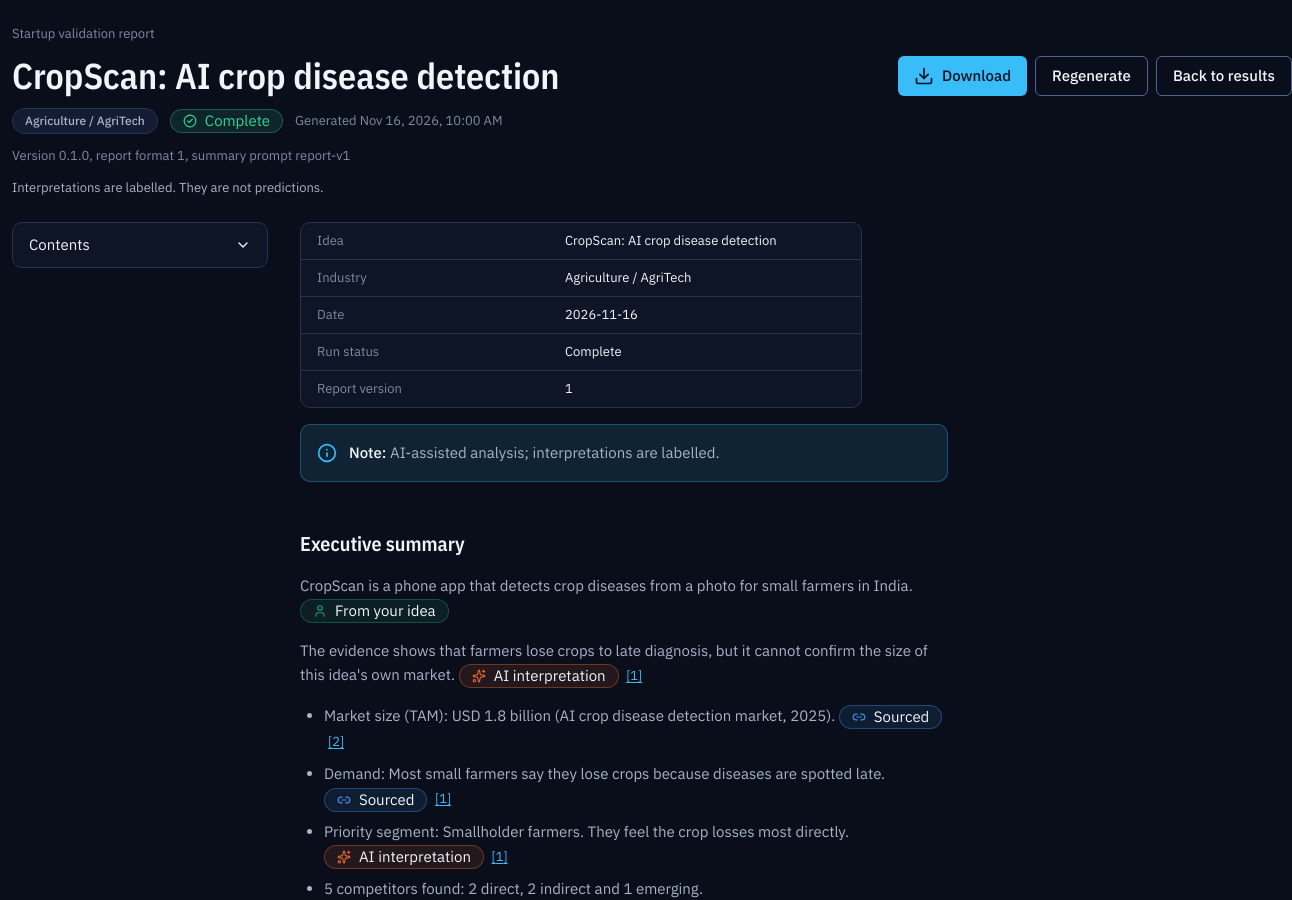
Scenario: Report page: reading › turns the contents into one collapsible list below 1024 px
Click the button "Contents".
click(140, 245)  # box x1=13 y1=223 x2=267 y2=267
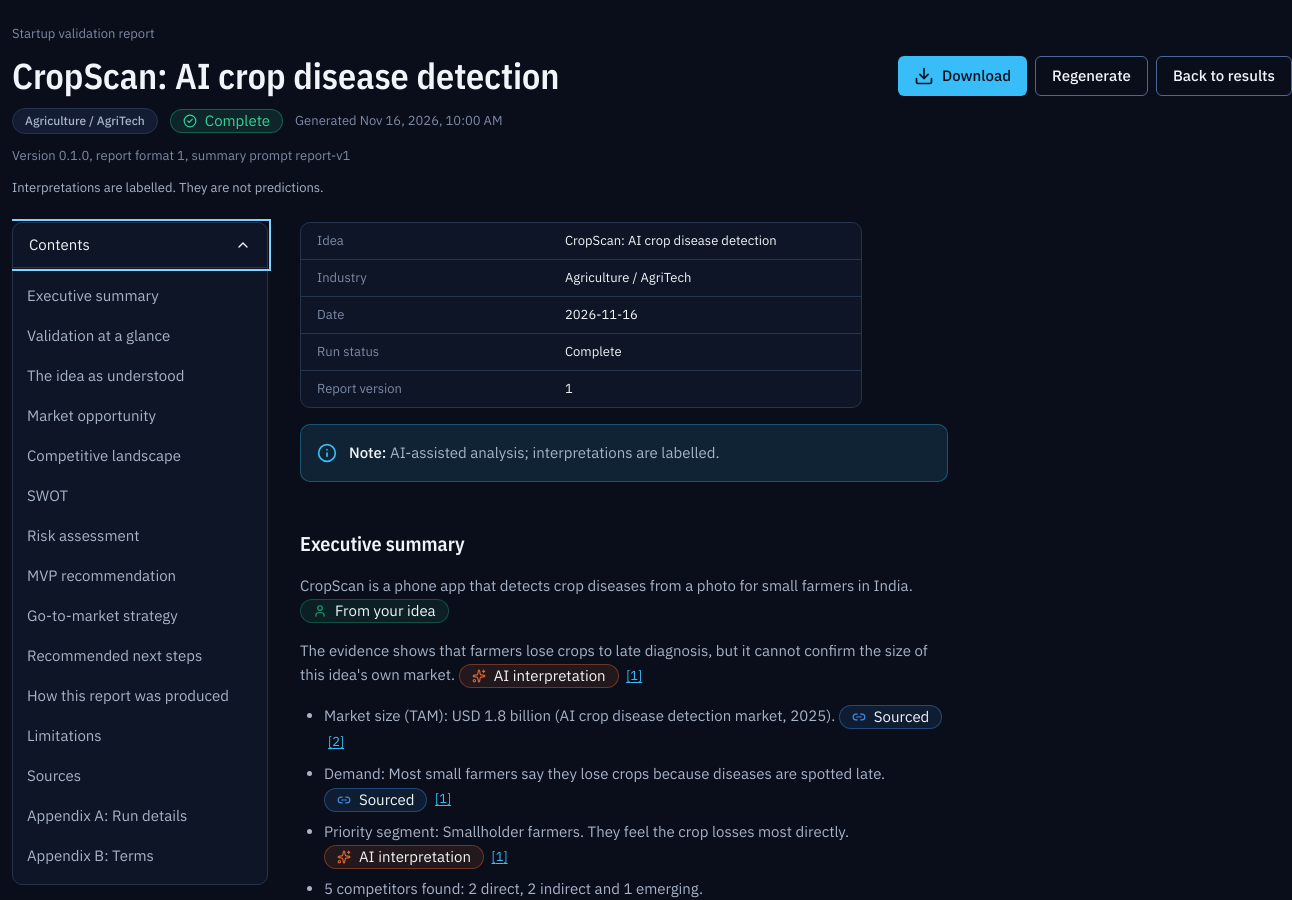
Check: the button "Contents" is expanded, box x1=13 y1=223 x2=267 y2=267
Click the link "Sources".
click(54, 776)  # box x1=27 y1=766 x2=81 y2=785
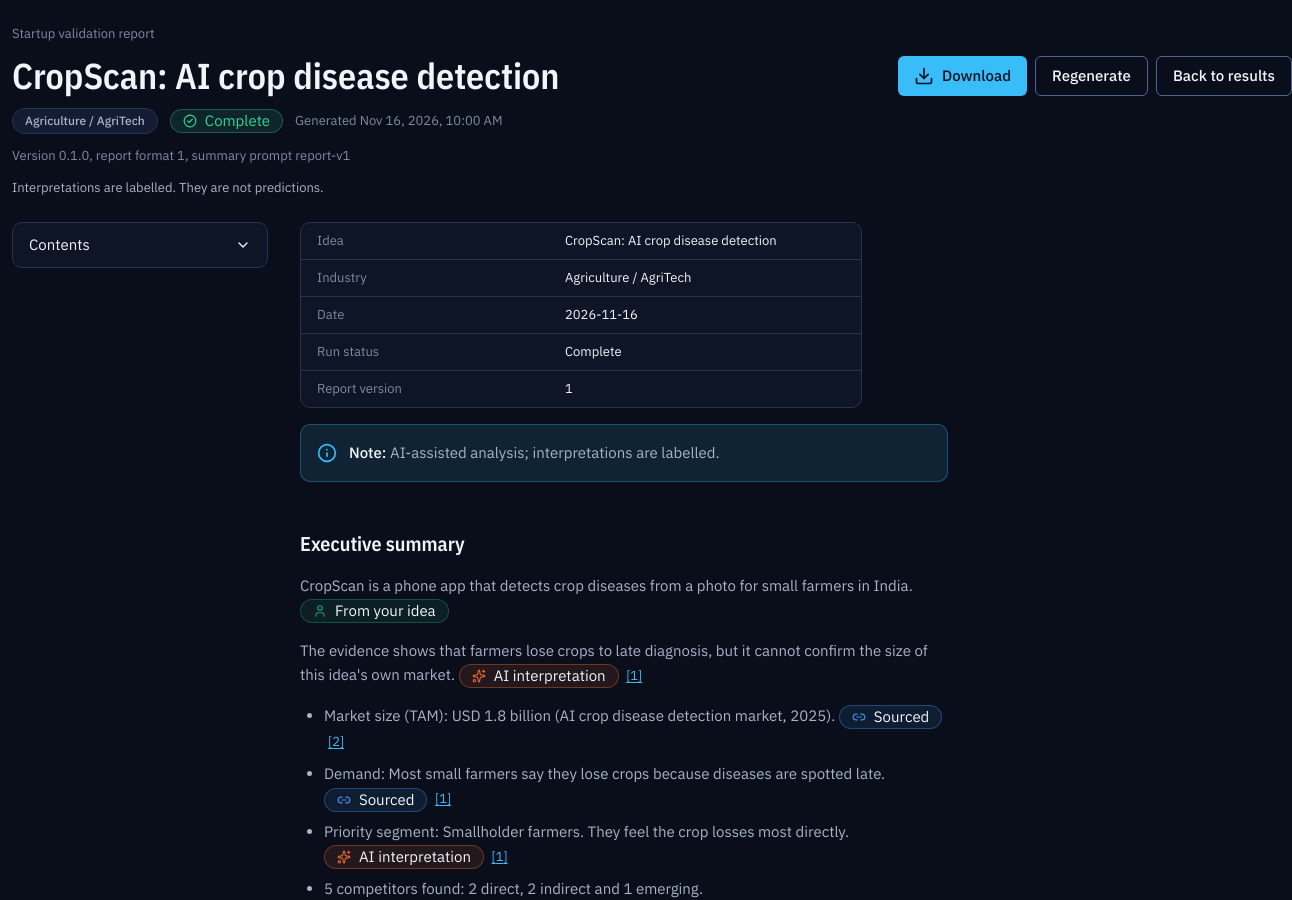
Check: the button "Contents" is collapsed, box x1=13 y1=223 x2=267 y2=267
